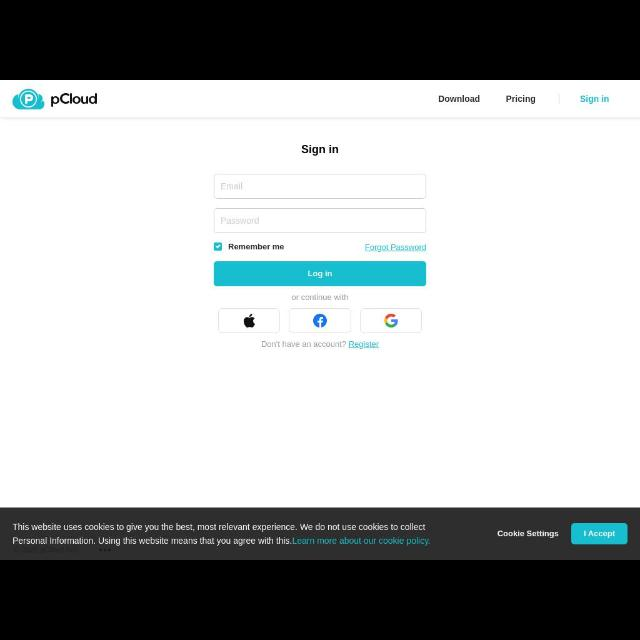button: (218, 308, 280, 334), (361, 309, 422, 333), (290, 309, 350, 333)
checkbox: (214, 243, 222, 251)
icon: (384, 314, 398, 328), (314, 314, 326, 328), (244, 314, 254, 328)
image: (12, 89, 44, 109)
input: (214, 174, 426, 198), (214, 210, 426, 232)
link: (364, 243, 428, 253), (349, 340, 379, 350)
text: (12, 537, 430, 547), (12, 522, 426, 532), (262, 341, 380, 349), (497, 530, 559, 540), (52, 94, 96, 106), (366, 244, 426, 252), (302, 144, 338, 156), (292, 294, 348, 300), (438, 94, 479, 102), (229, 243, 283, 249), (584, 530, 616, 538), (222, 218, 258, 225), (507, 96, 535, 104), (581, 96, 609, 104), (308, 270, 332, 278), (222, 182, 242, 190)
textbutton: (214, 262, 426, 286), (572, 524, 628, 544)
toolbar: (1, 84, 640, 118)
